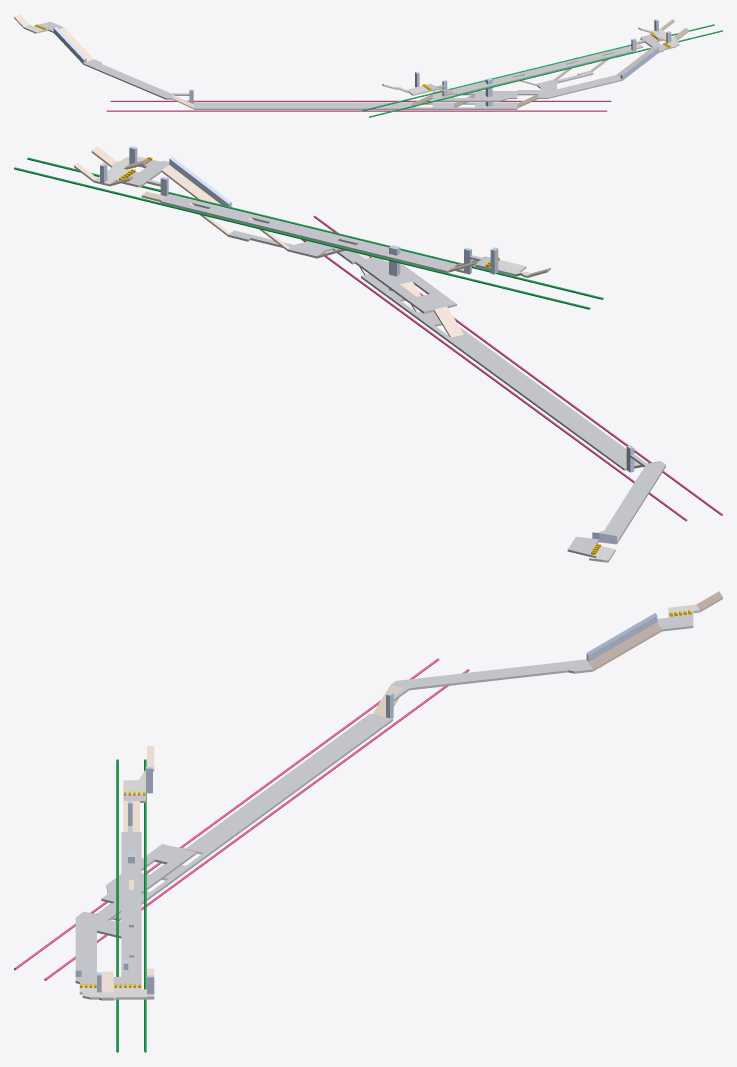
The model's file is odenplan.glb.
3 views of the same model, one above another, from view 1: azimuth 30°, elevation 25°; view 2: azimuth 150°, elevation 25°; view 3: azimuth 270°, elevation 25° (orthographic). The views are drawn at different scales.
Visible parts, largest first — view 1: rect6343, rect6399.001, rect5570, path2291, rect6553, path2293, path2289, path2287, rect6580, rect6247, rect3047, rect6391-2-5 (+1 smaller); view 2: rect6343, rect5570, rect6399.001, path2287, rect6553, path2289, path2293, path2291, rect3047, rect6247; view 3: rect6343, rect6399.001, rect5570, rect6553, path2293, path2291, rect6391-2-5, path2289, rect6580, path2287, rect6154.
Boxes of the visible parts, left/top/right/bottom form: rect6343: left=193, top=102, right=517, bottom=109; rect6399.001: left=432, top=70, right=622, bottom=101; rect5570: left=447, top=46, right=633, bottom=95; path2291: left=106, top=110, right=607, bottom=111; rect6553: left=83, top=59, right=189, bottom=99; path2293: left=110, top=100, right=611, bottom=101; path2289: left=369, top=30, right=722, bottom=117; path2287: left=361, top=24, right=714, bottom=111; rect6580: left=53, top=27, right=86, bottom=64; rect6247: left=620, top=46, right=658, bottom=80; rect3047: left=636, top=34, right=669, bottom=52; rect6391-2-5: left=59, top=27, right=93, bottom=61; rect6343: left=361, top=274, right=639, bottom=470; rect5570: left=160, top=194, right=463, bottom=272; rect6399.001: left=228, top=220, right=456, bottom=313; path2287: left=14, top=167, right=590, bottom=309; rect6553: left=598, top=454, right=665, bottom=543; path2289: left=27, top=157, right=603, bottom=299; path2293: left=301, top=239, right=687, bottom=521; path2291: left=313, top=215, right=722, bottom=515; rect3047: left=122, top=159, right=169, bottom=187; rect6247: left=169, top=156, right=231, bottom=206; rect6343: left=97, top=713, right=392, bottom=921; rect6399.001: left=75, top=844, right=196, bottom=976; rect5570: left=121, top=826, right=141, bottom=977; rect6553: left=391, top=659, right=592, bottom=701; path2293: left=44, top=669, right=469, bottom=980; path2291: left=14, top=658, right=439, bottom=970; rect6391-2-5: left=588, top=622, right=661, bottom=671; path2289: left=116, top=759, right=118, bottom=1052; rect6580: left=586, top=613, right=657, bottom=661; path2287: left=144, top=759, right=146, bottom=1052; rect6154: left=79, top=987, right=154, bottom=1000.
Bounding box in the file's own units: 436 × 36.5 × 298.
